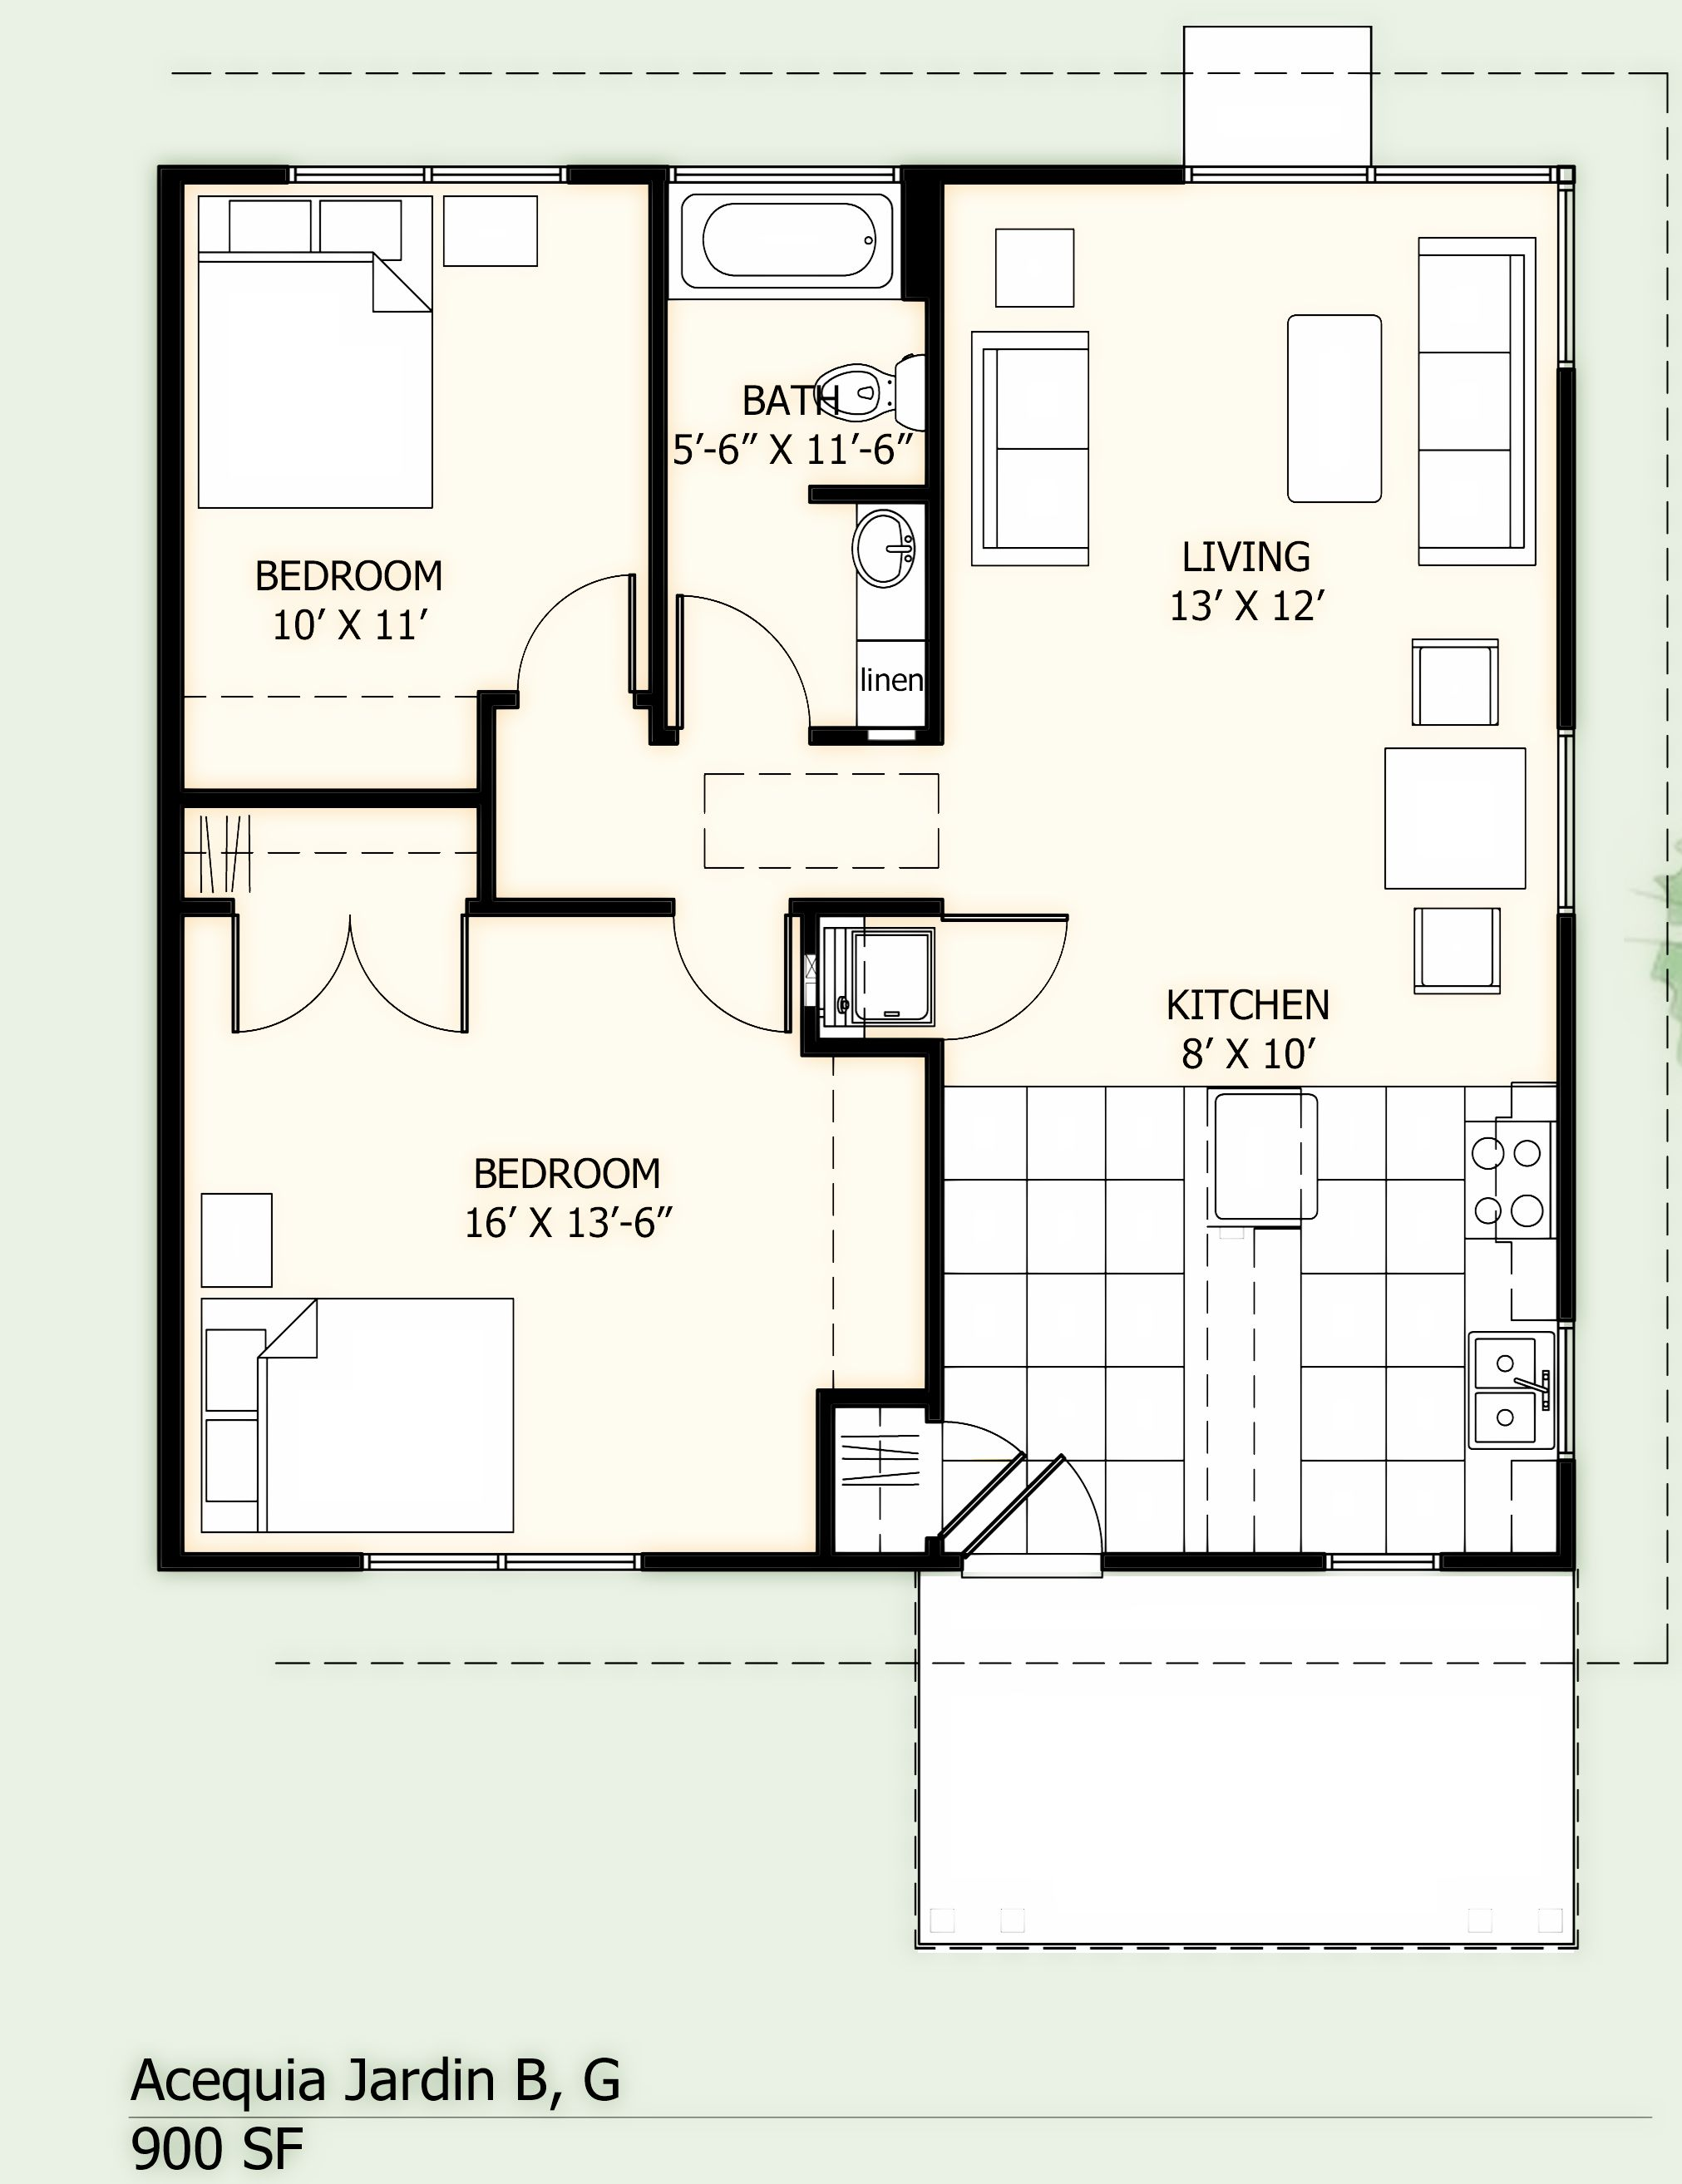door: (212, 919, 495, 1073), (671, 915, 799, 1062), (512, 537, 638, 684), (675, 578, 800, 724), (954, 901, 1080, 1046), (1005, 1447, 1120, 1546), (949, 1398, 1027, 1505)
